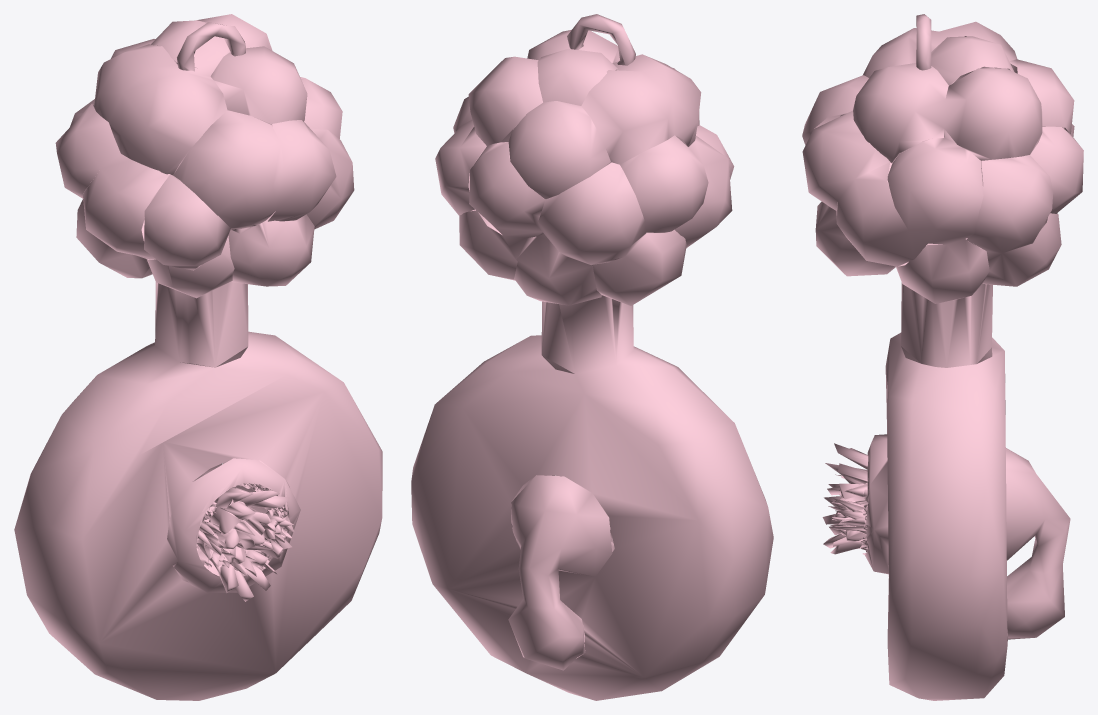
Rendered from plumbus.glb.
3 views of the same model, side by side, from view 1: azimuth 30°, elevation 25°; view 2: azimuth 150°, elevation 25°; view 3: azimuth 270°, elevation 25° (orthographic).
Visible parts, largest first — view 1: plumbus; view 2: plumbus; view 3: plumbus.
Part boxes in pixels (box(x1,y1,x2,y2)): plumbus: box(14, 14, 382, 700); plumbus: box(411, 14, 773, 700); plumbus: box(802, 14, 1083, 700).
Bounding box in the file's own units: 0.1148 × 0.22 × 0.0846.
